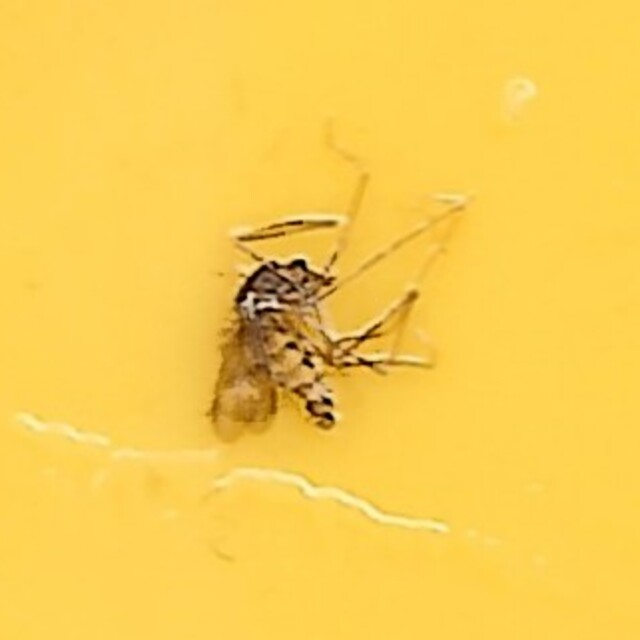Nematocera: (199, 196, 441, 444)
